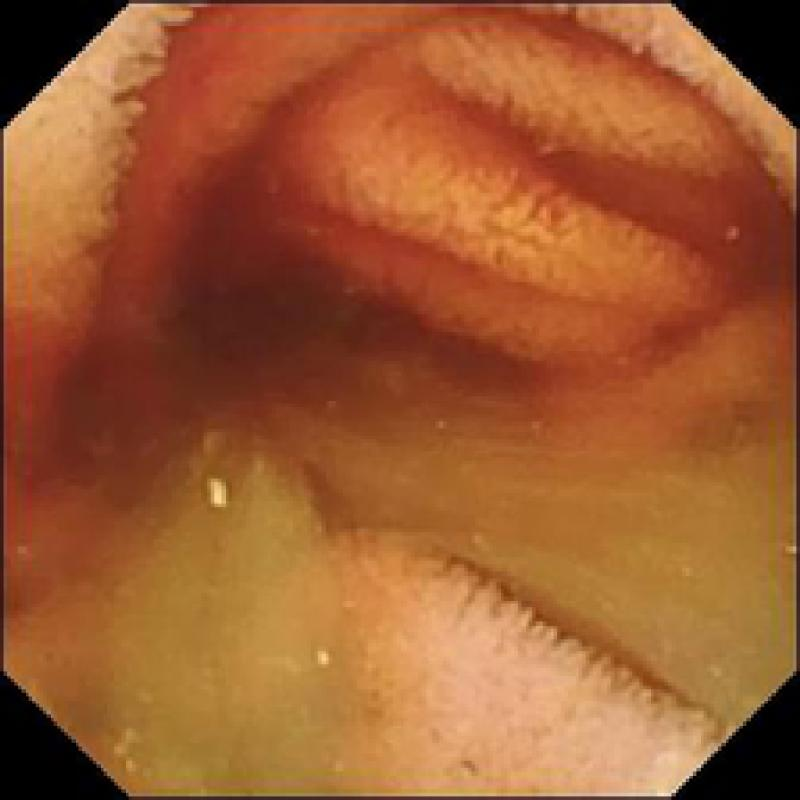bleeding: (10, 15, 429, 526), (443, 0, 800, 387)
